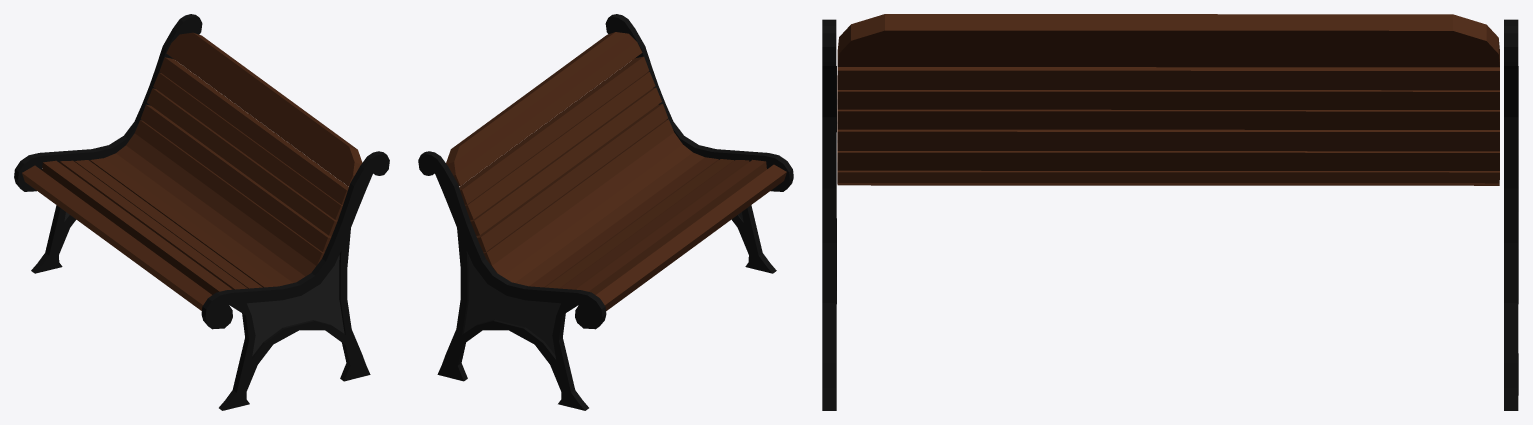
File: yizi.fbx
The picture shows the model from 3 angles, left to right: view 1: azimuth 30°, elevation 25°; view 2: azimuth 150°, elevation 25°; view 3: azimuth 270°, elevation 25°; orthographic projection. The views are drawn at different scales.
Visible parts, largest first — view 1: yizi; view 2: yizi; view 3: yizi.
Part boxes in pixels (x1=…): yizi: x1=14, y1=14, x2=389, y2=410; yizi: x1=418, y1=14, x2=793, y2=410; yizi: x1=822, y1=14, x2=1518, y2=410.
Size of the model in its own units: 9.39 by 10.61 by 16.89.
Materials: 1 (1 with a texture image).
